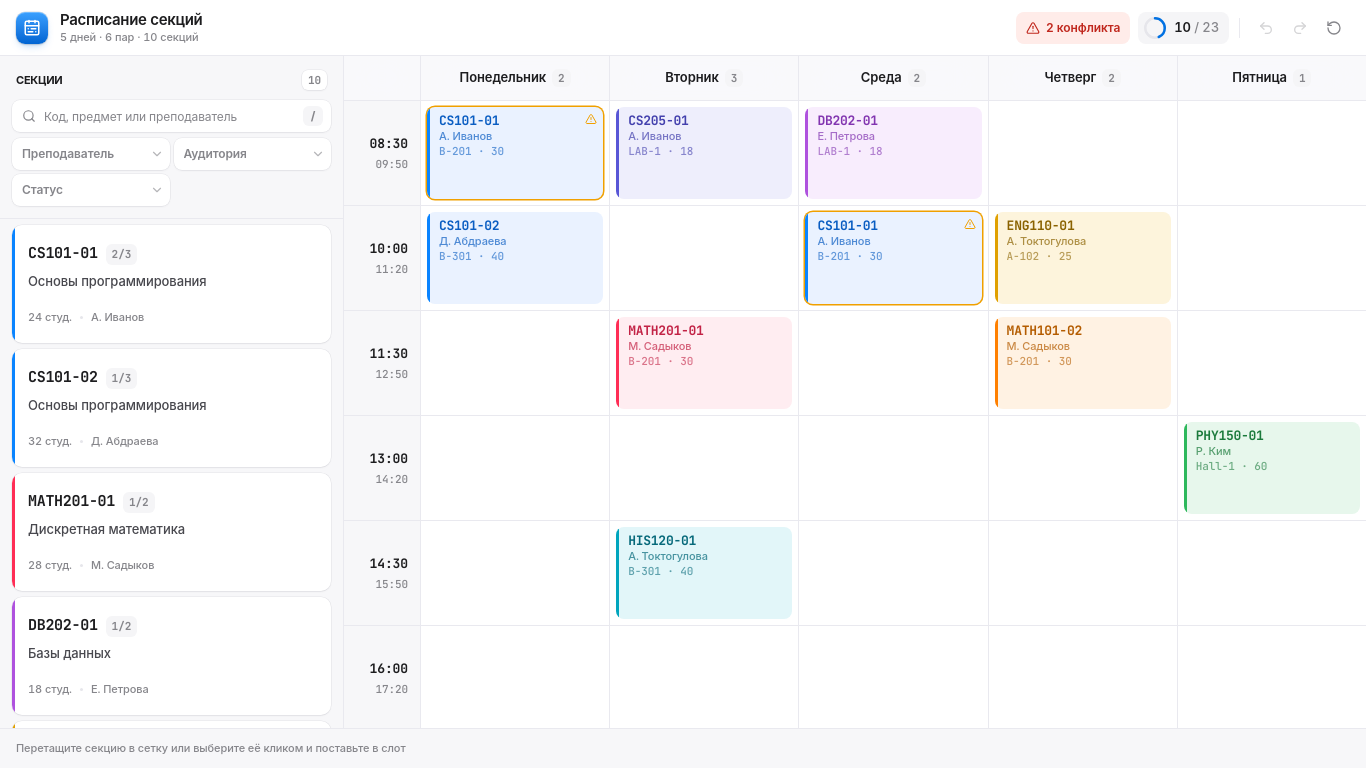
Test case: редактор занятия › предупреждает о конфликте выбранной пары
Click the button "DB202-01 Е. Петрова LAB-1 · 18": (894, 153) [805,107,982,199]
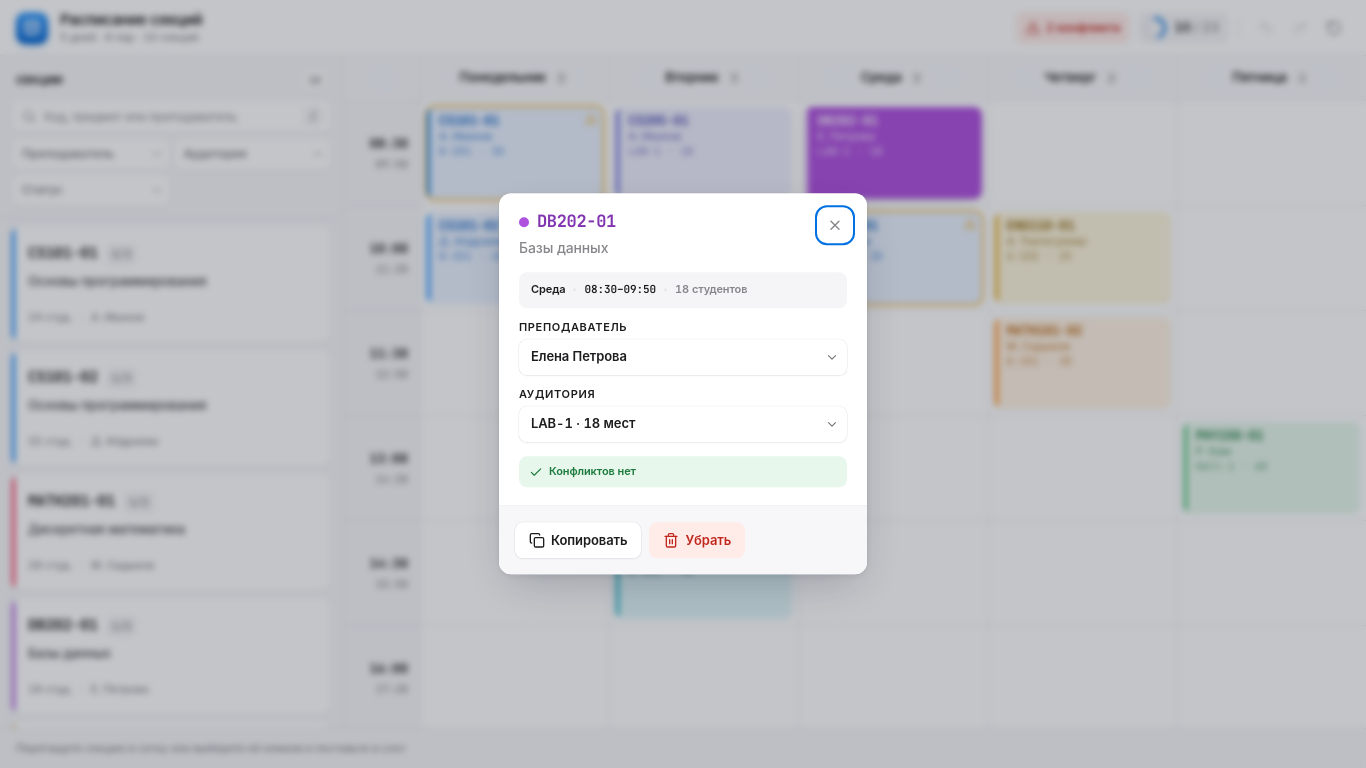
Click the dropdown named "Аудитория": (583, 424) [519,406,847,442]
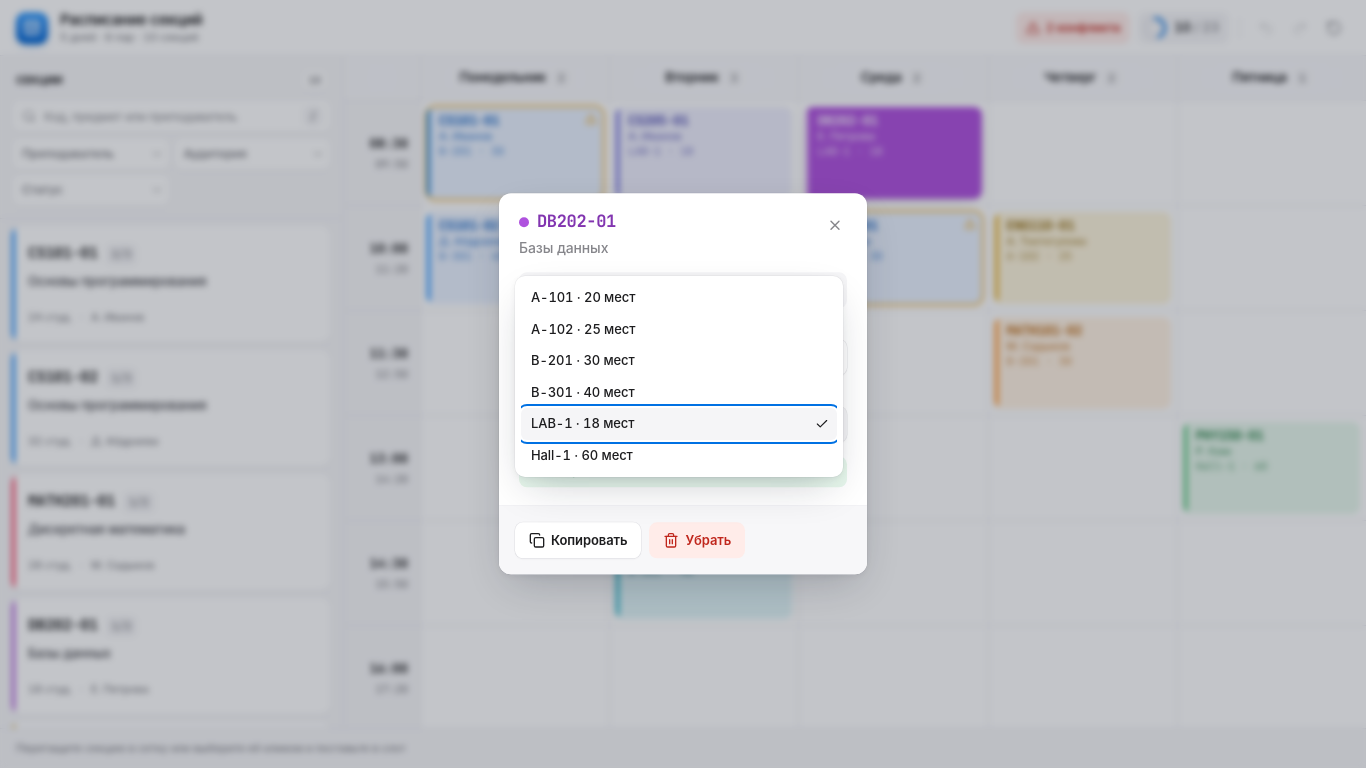
Click the option "A-101 · 20 мест": (583, 297) [531,289,635,305]
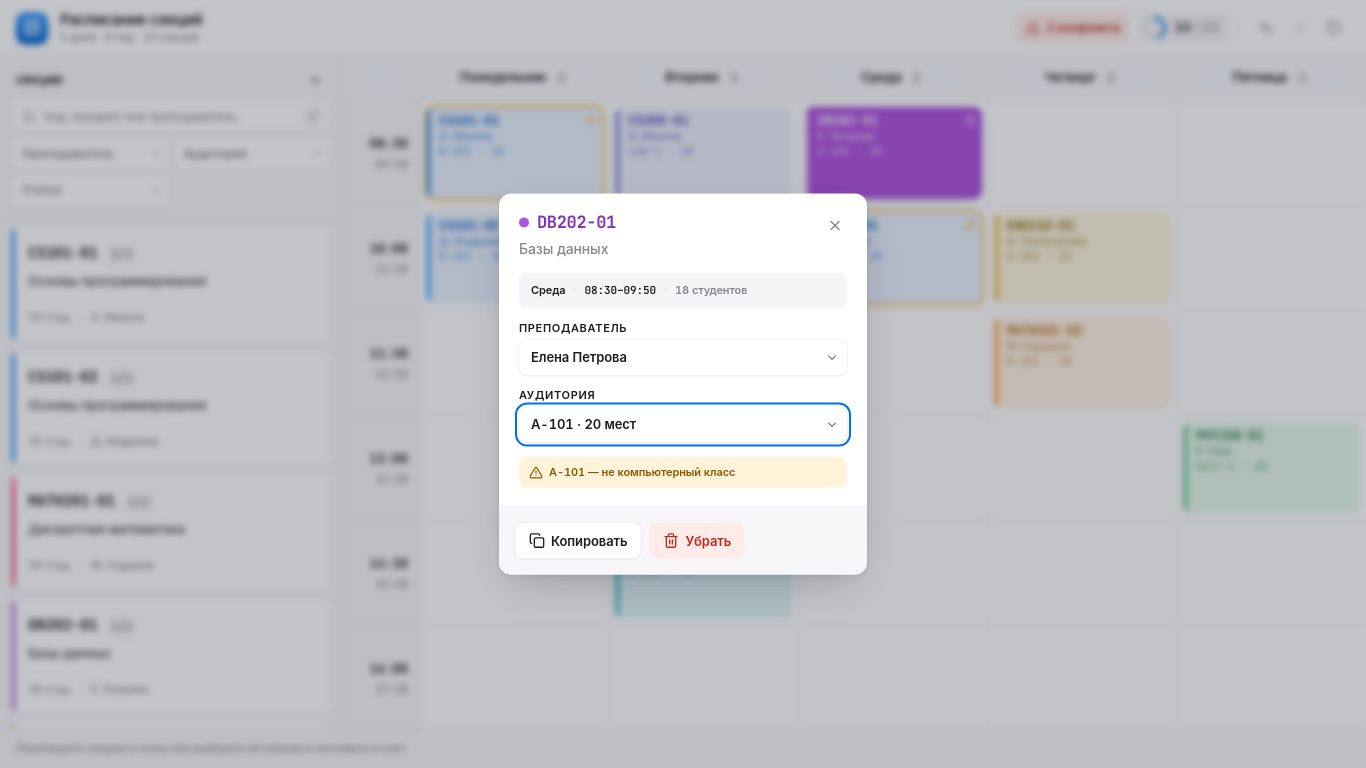
Expected: the dialog shows "A-101", [519,406,847,442]
Expected: the dialog shows "не компьютерный класс", [549,464,735,478]
